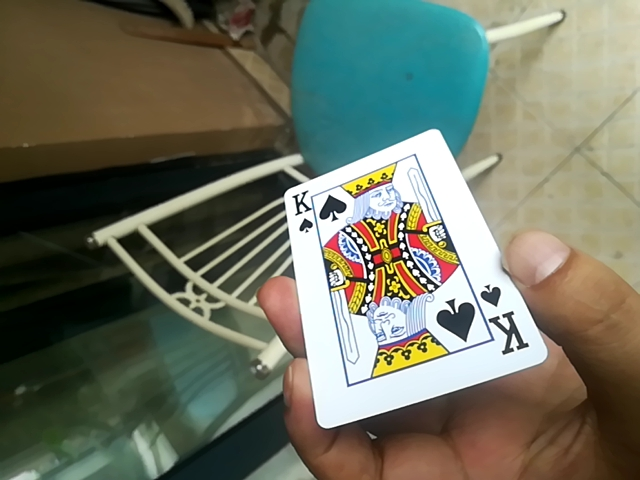ht k: (274, 126, 541, 435)
